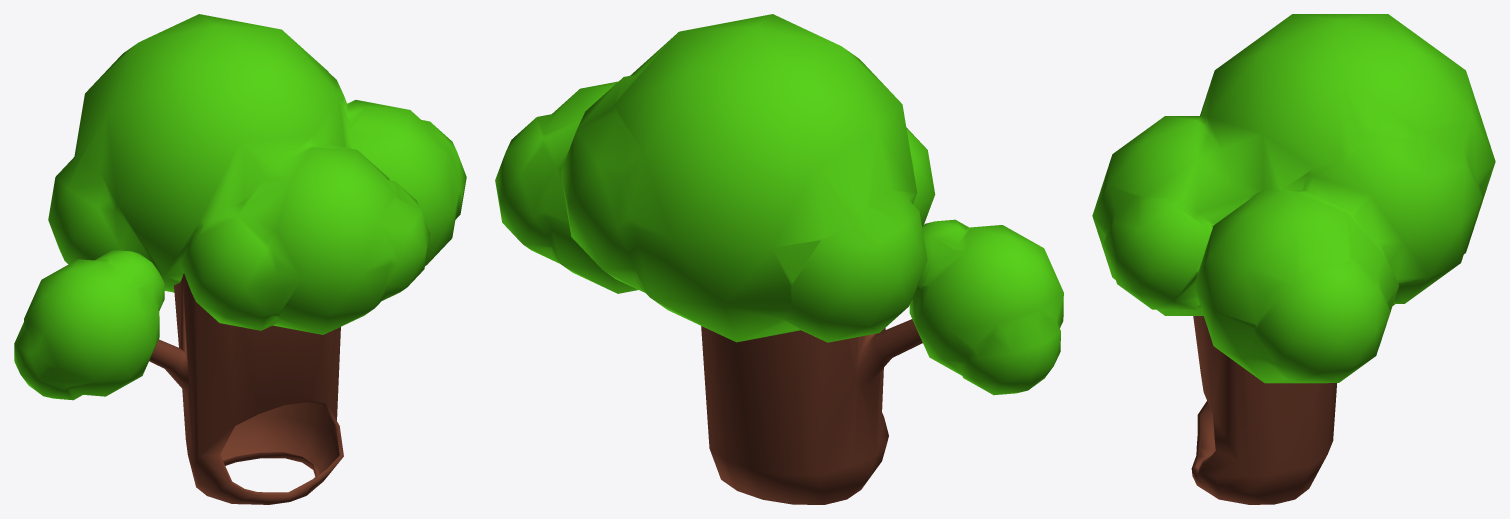
File: otter_tree.fbx
The picture shows the model from 3 angles, left to right: view 1: azimuth 30°, elevation 25°; view 2: azimuth 150°, elevation 25°; view 3: azimuth 270°, elevation 25°; orthographic projection. The views are drawn at different scales.
Visible parts, largest first — view 1: Leaves, Trunk; view 2: Leaves, Trunk; view 3: Leaves, Trunk.
Part boxes in pixels (left/top/right/bottom): Leaves: left=14, top=14, right=466, bottom=400; Trunk: left=149, top=273, right=343, bottom=504; Leaves: left=495, top=14, right=1063, bottom=395; Trunk: left=701, top=319, right=922, bottom=504; Leaves: left=1092, top=14, right=1495, bottom=383; Trunk: left=1191, top=316, right=1336, bottom=504.
Size of the model in its own units: 548 by 486 by 393.
